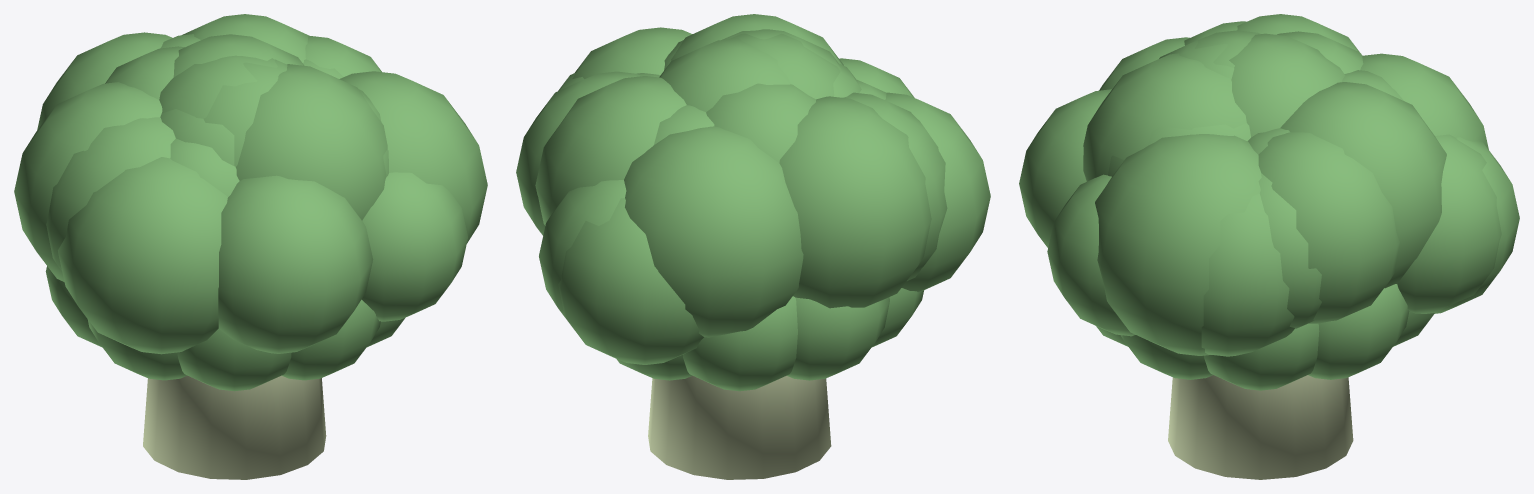
Rendered from Broccoli.glb.
3 renders of one model, left to right at view 1: azimuth 30°, elevation 25°; view 2: azimuth 150°, elevation 25°; view 3: azimuth 270°, elevation 25°, orthographic.
Visible parts, largest first — view 1: Broccoli; view 2: Broccoli; view 3: Broccoli.
Boxes of the visible parts, bbox=[...] form: Broccoli: bbox=[14, 14, 487, 479]; Broccoli: bbox=[516, 14, 990, 479]; Broccoli: bbox=[1019, 14, 1519, 479].
Size of the model in its own units: 0.8739 by 0.8018 by 0.9185.
